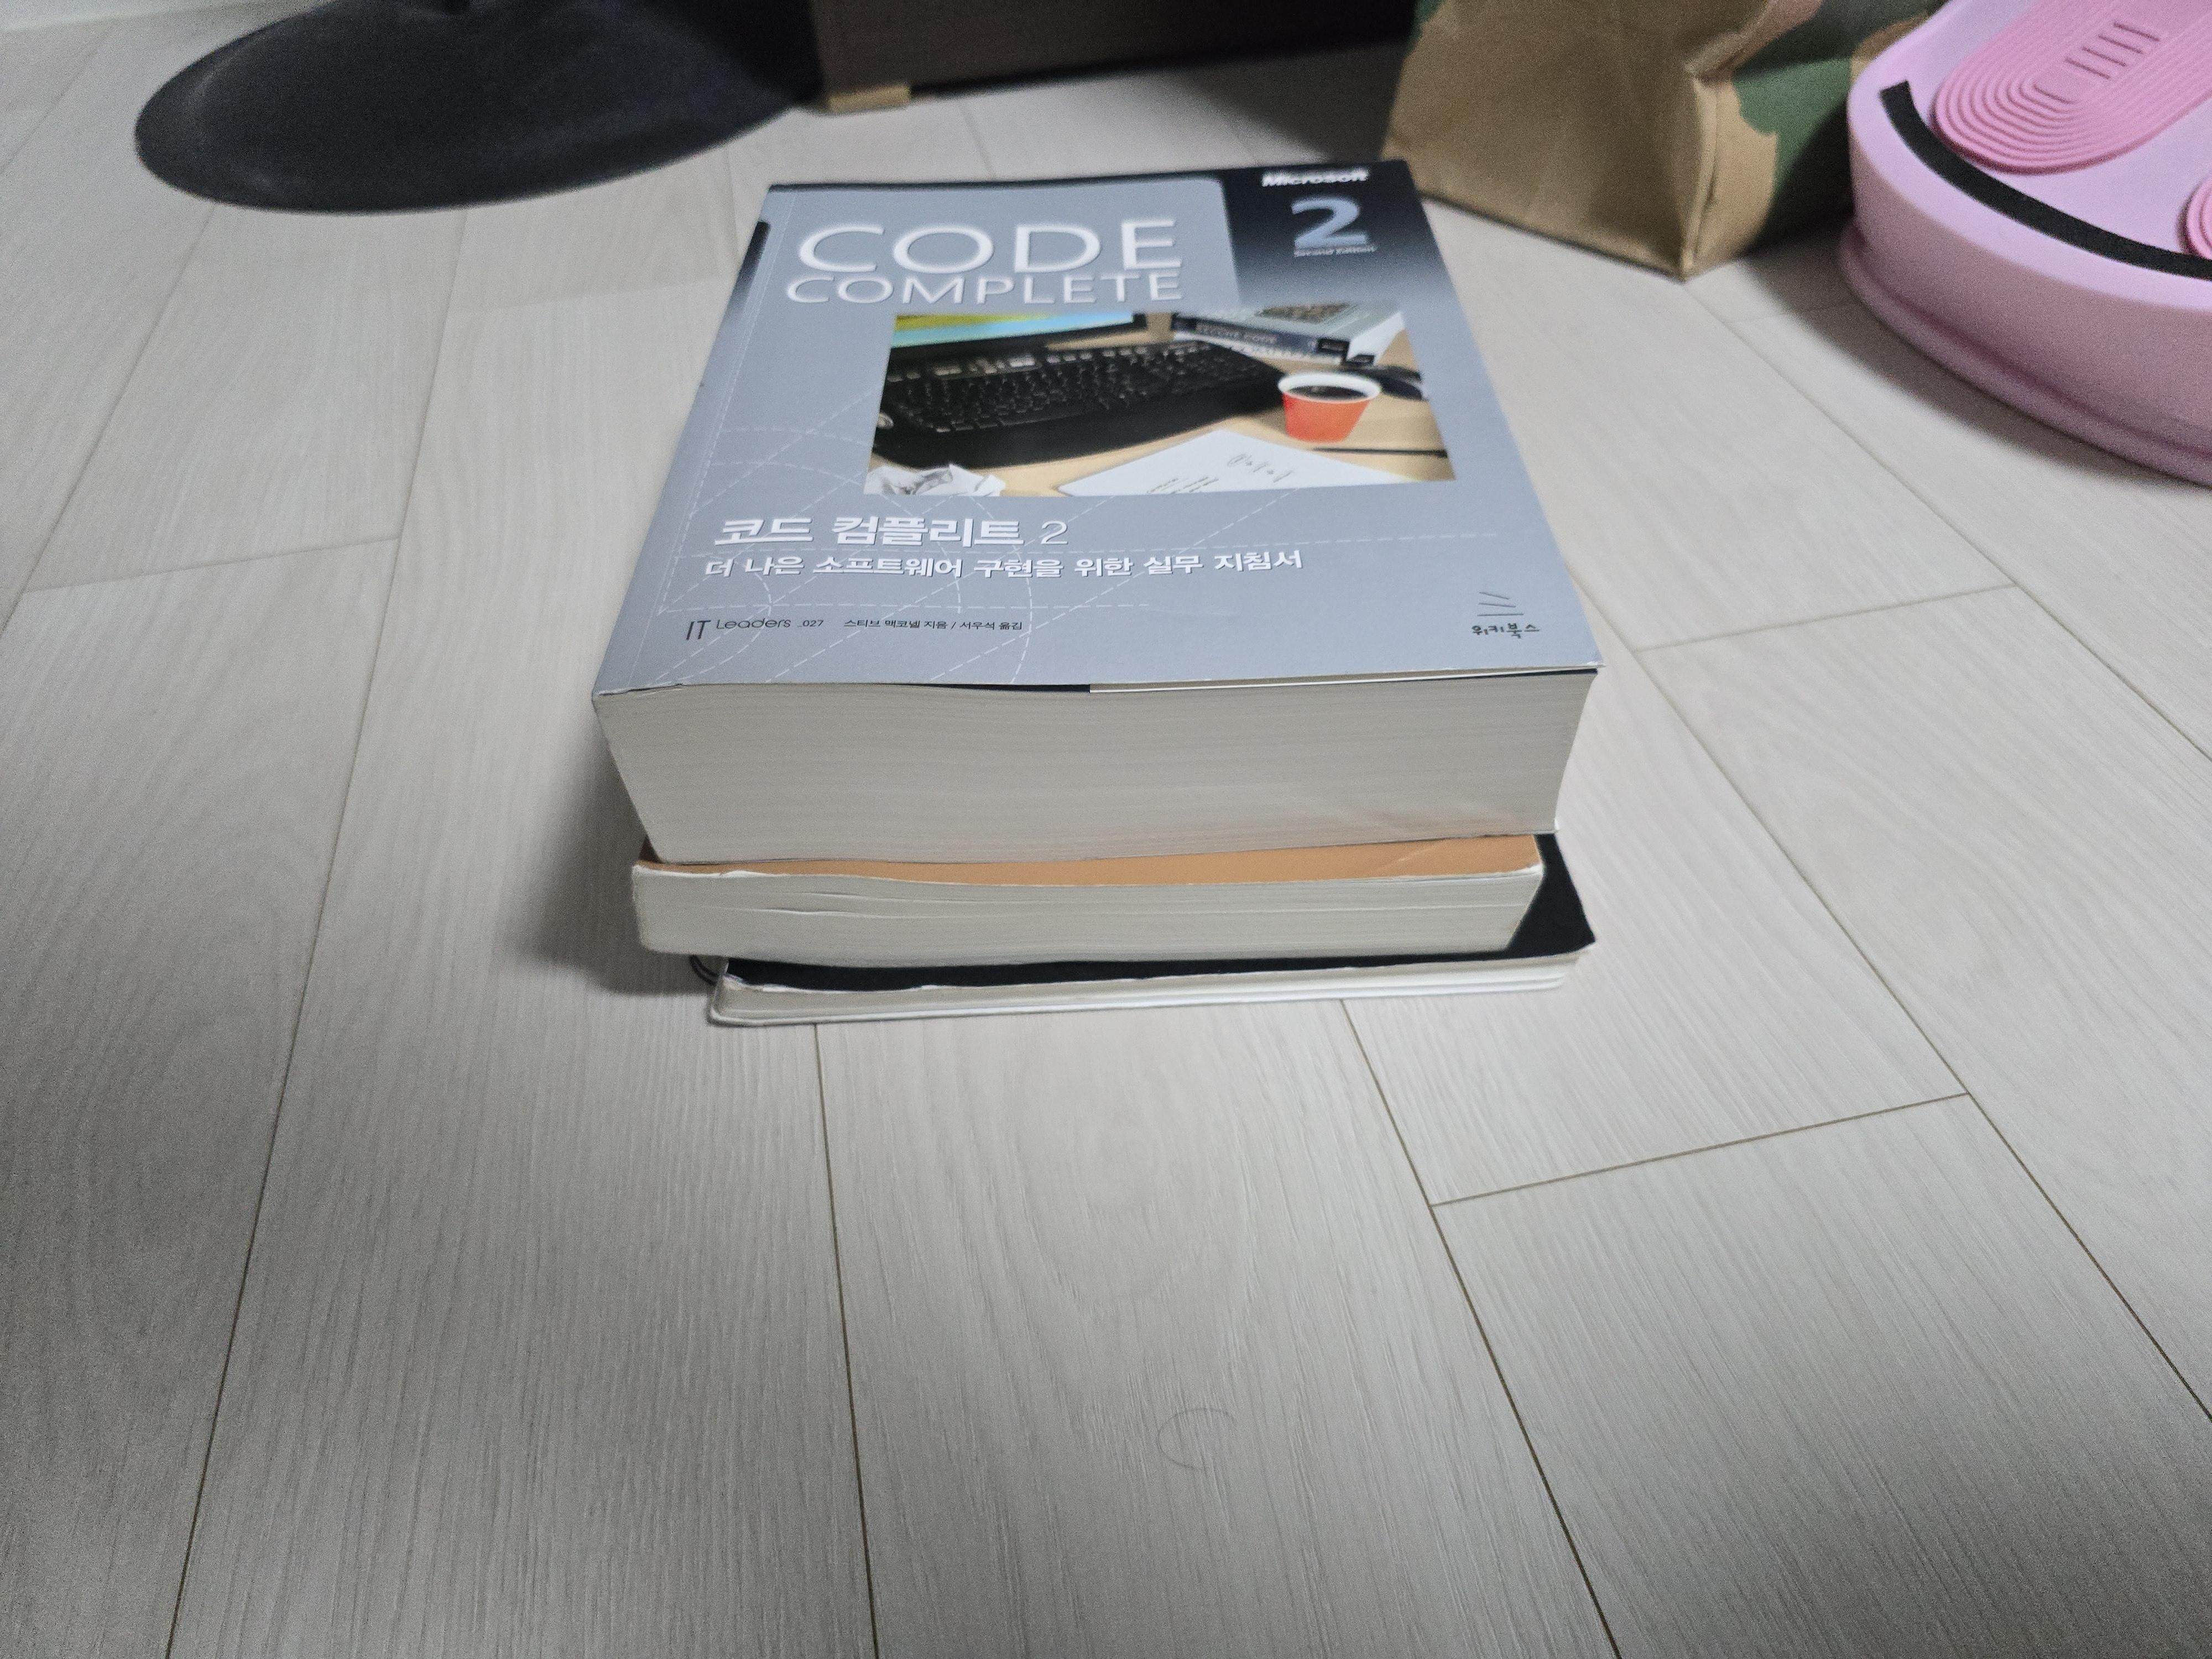book: (603, 155, 1609, 866), (639, 863, 1534, 951), (719, 946, 1599, 1014)
keyboard: (871, 336, 1285, 471)
